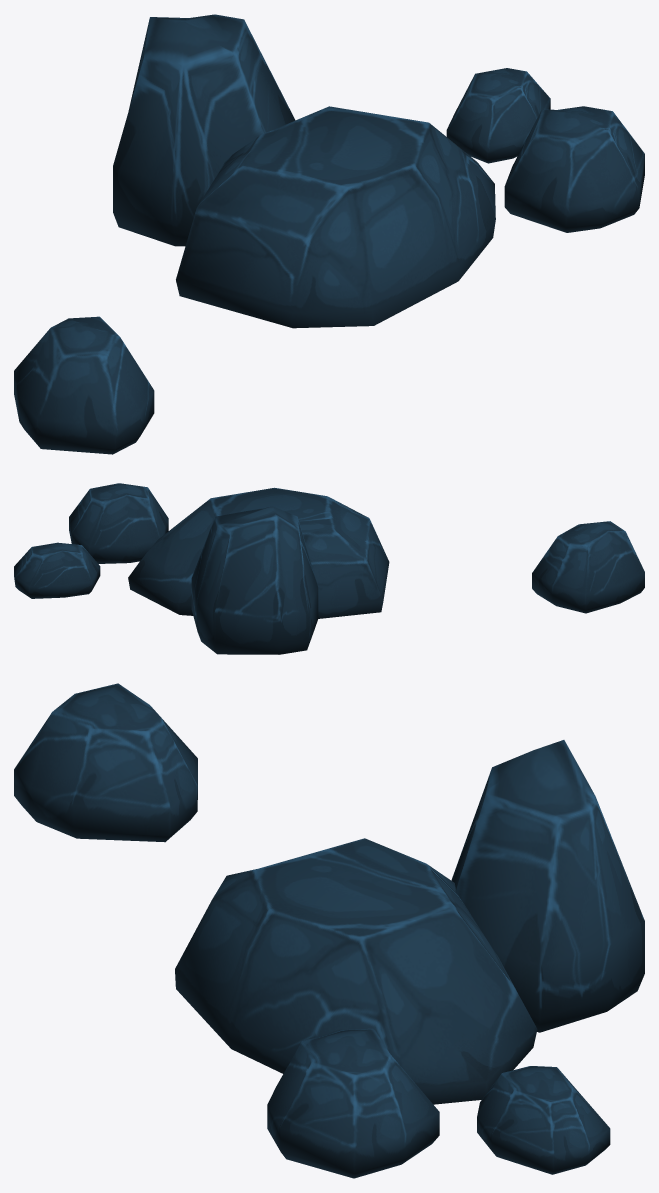
Rendered from RockGroup1.FBX.
3 views of the same model, one above another, from view 1: azimuth 30°, elevation 25°; view 2: azimuth 150°, elevation 25°; view 3: azimuth 270°, elevation 25° (orthographic). The views are drawn at different scales.
Visible parts, largest first — view 1: RockGroup1; view 2: RockGroup1; view 3: RockGroup1.
Boxes of the visible parts, x1,y1,x2,y2 form: RockGroup1: (14, 14, 644, 454); RockGroup1: (14, 483, 644, 654); RockGroup1: (14, 683, 644, 1178).
Bounding box in the file's own units: 107 × 27.26 × 70.6.
